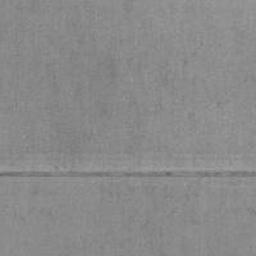Welding line: (0, 170, 256, 178)
